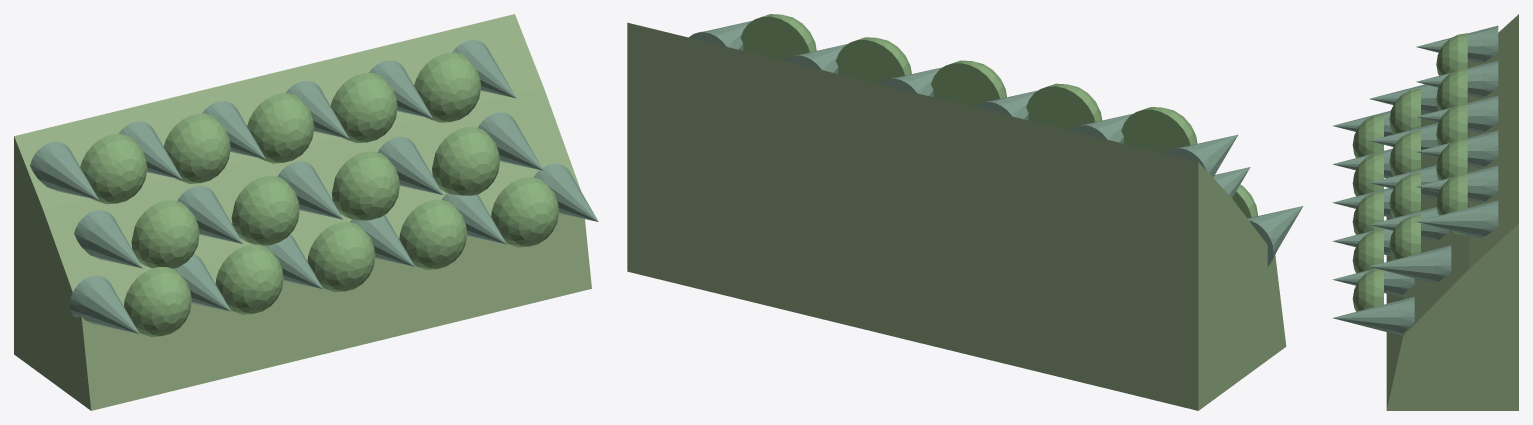
The model's file is r-12-bystrc-wooded-ridge.glb.
3 views of the same model, side by side, from view 1: azimuth 30°, elevation 25°; view 2: azimuth 150°, elevation 25°; view 3: azimuth 270°, elevation 25° (orthographic). The views are drawn at different scales.
Visible parts, largest first — view 1: hill, broadleaf-trees, pines; view 2: hill, broadleaf-trees, pines; view 3: hill, pines, broadleaf-trees.
Boxes of the visible parts, x1,y1,x2,y2 form: hill: (14,14,591,410); broadleaf-trees: (80,52,558,336); pines: (30,40,598,333); hill: (627,22,1286,410); broadleaf-trees: (740,14,1257,218); pines: (689,20,1303,266); hill: (1386,14,1518,410); pines: (1332,25,1498,335); broadleaf-trees: (1352,33,1467,311).
Bounding box in the file's own units: 60600 × 25773 × 22609.
